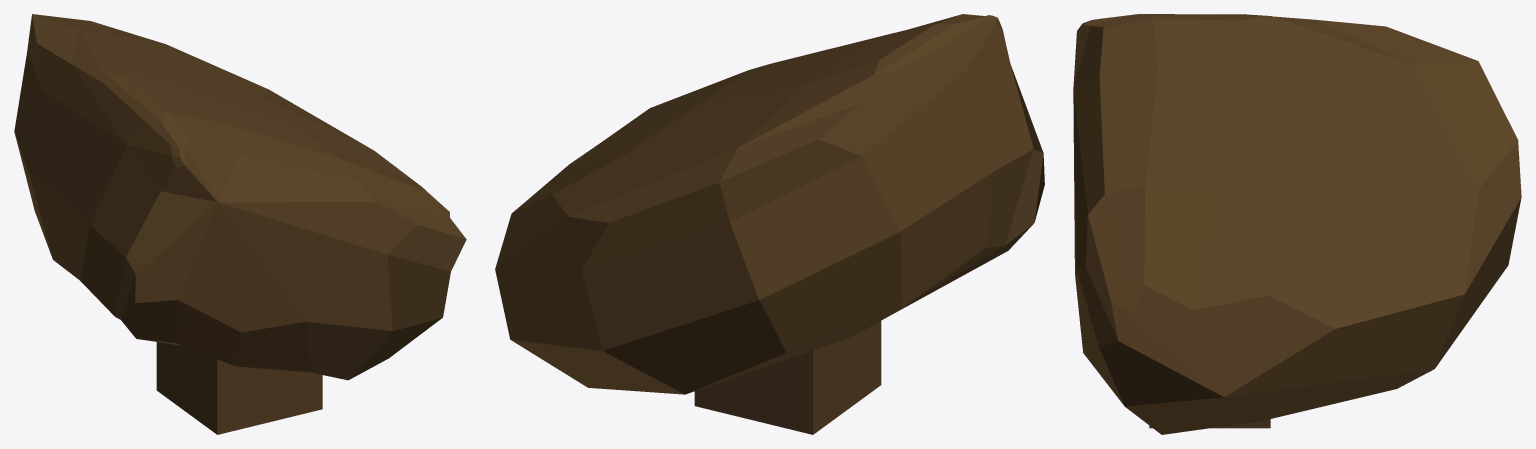
Rendered from Pedras05.fbx.
The picture shows the model from 3 angles, left to right: view 1: azimuth 30°, elevation 25°; view 2: azimuth 150°, elevation 25°; view 3: azimuth 270°, elevation 25°; orthographic projection. The views are drawn at different scales.
Parts seen in each view (by area): view 1: Cube_cell.012, Cube; view 2: Cube_cell.012, Cube; view 3: Cube_cell.012.
Part boxes in pixels (<box>): Cube_cell.012: <box>14,14,466,380</box>; Cube: <box>156,342,322,434</box>; Cube_cell.012: <box>495,14,1044,394</box>; Cube: <box>694,321,881,434</box>; Cube_cell.012: <box>1073,14,1521,434</box>.
Size of the model in its own units: 704 by 607 by 738.
